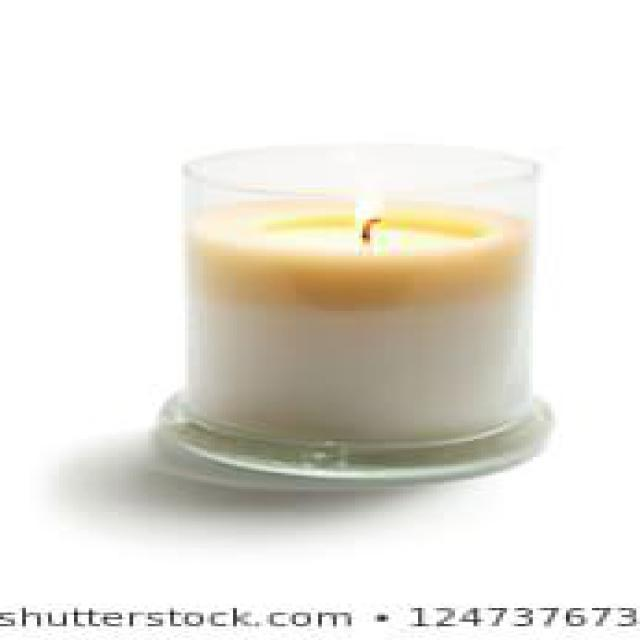Fire: (356, 174, 386, 229)
